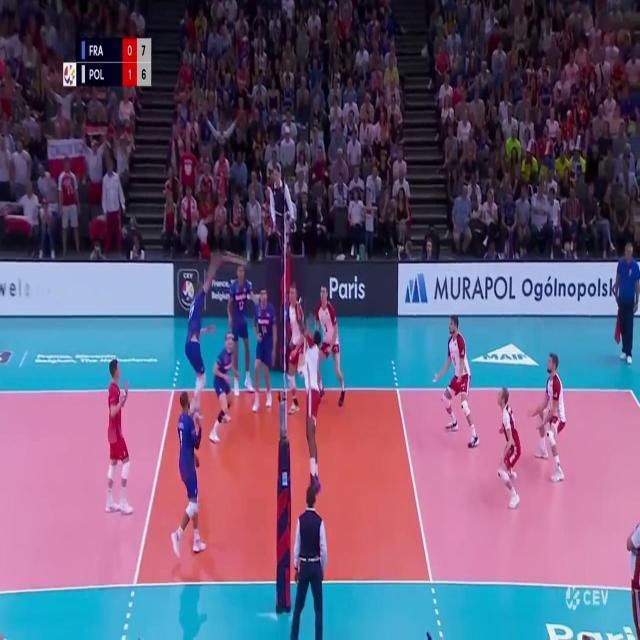volleyball: (220, 250, 248, 266)
